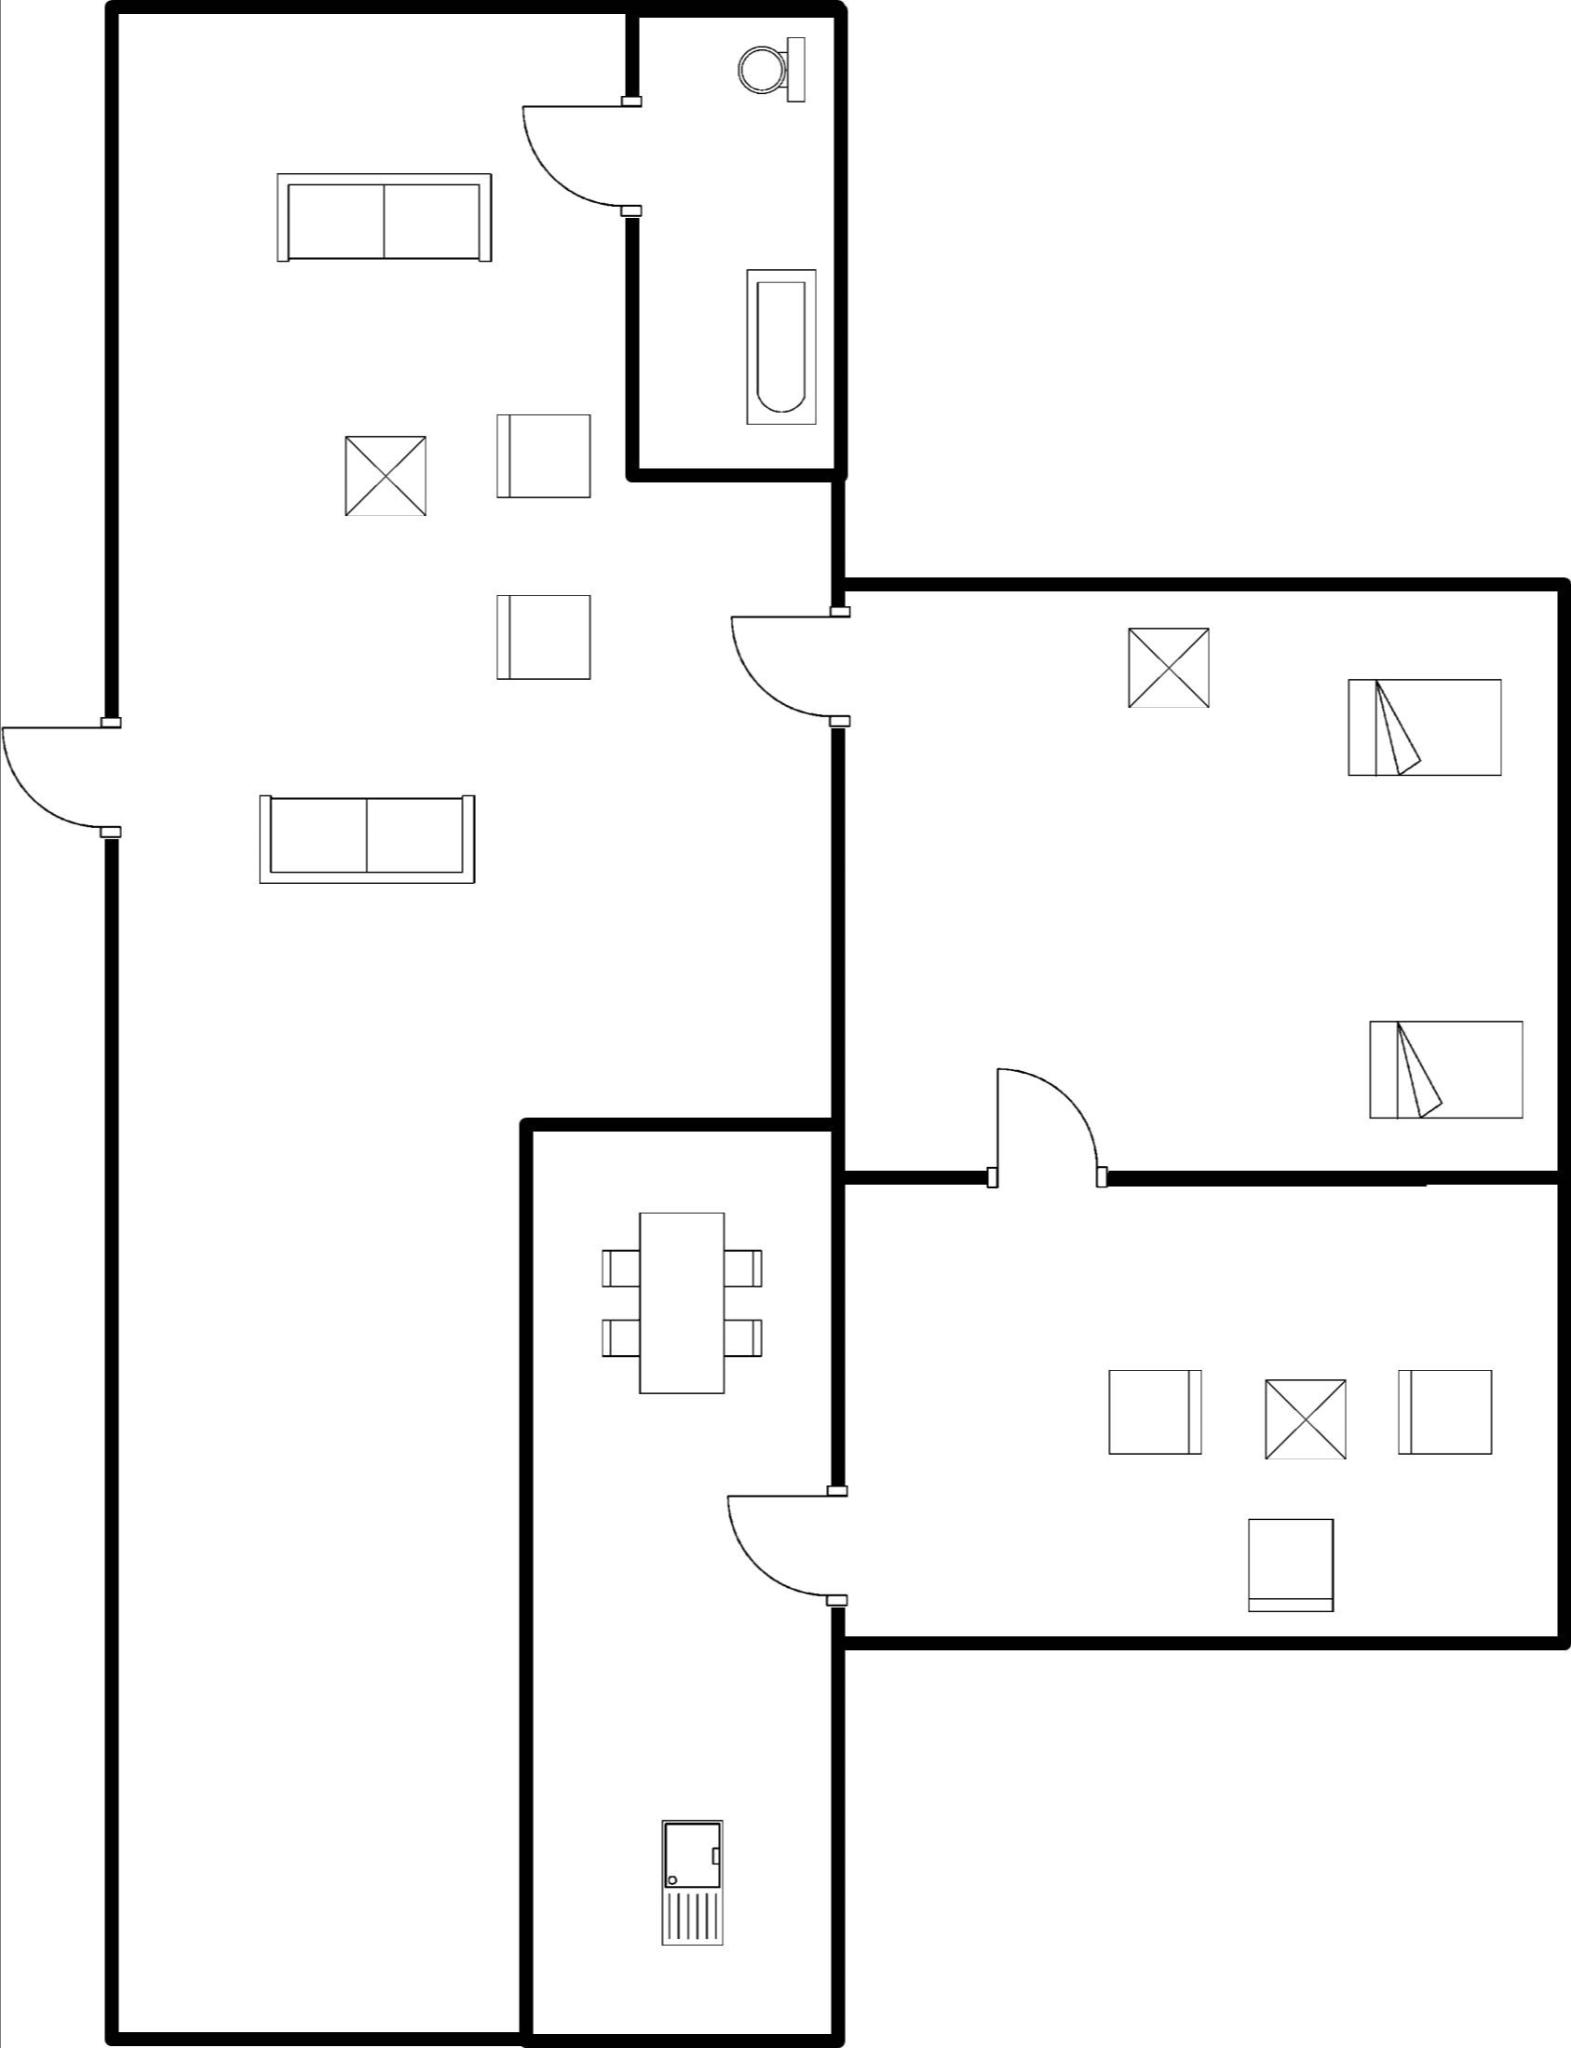bed: (1333, 658, 1515, 794), (1353, 1005, 1543, 1134)
dining_table: (586, 1200, 784, 1414)
sink: (649, 1807, 738, 1962)
sofa: (256, 152, 508, 276), (246, 777, 490, 896)
toilet: (728, 23, 819, 119)
tub: (729, 249, 827, 432)
